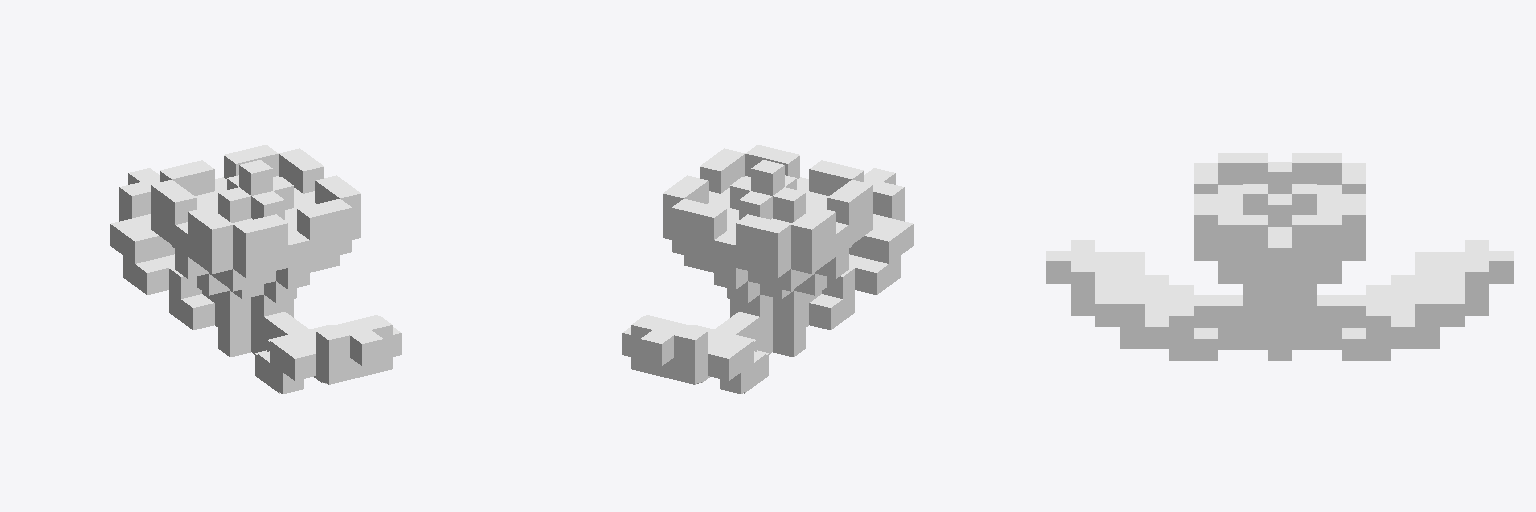
File: flower.white.obj
3 renders of one model, left to right at view 1: azimuth 30°, elevation 25°; view 2: azimuth 150°, elevation 25°; view 3: azimuth 270°, elevation 25°, orthographic.
Visible parts, largest first — view 1: object 1; view 2: object 1; view 3: object 1.
Boxes of the visible parts, x1,y1,x2,y2 form: object 1: [110, 145, 401, 393]; object 1: [622, 145, 913, 393]; object 1: [1046, 153, 1513, 360].
Bounding box in the file's own units: 0.7 × 0.8 × 1.9.